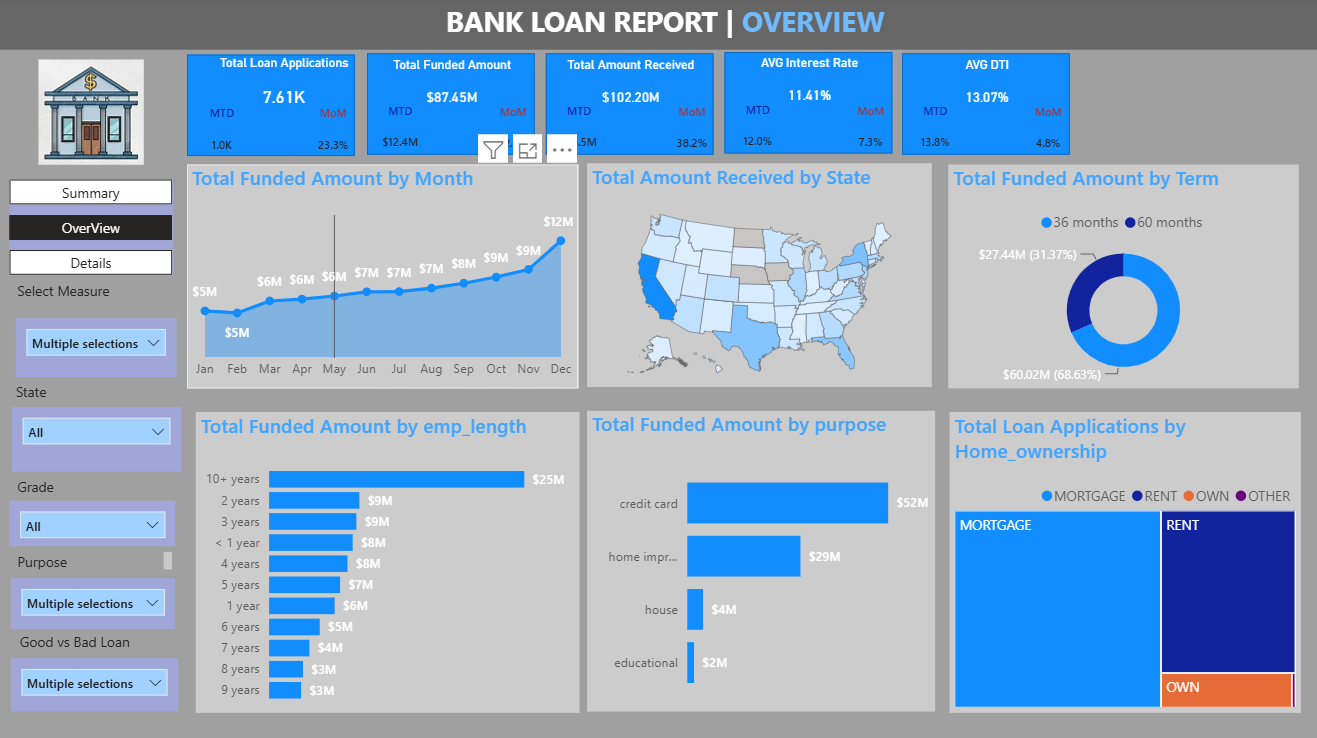

This screenshot's page, from the dashboard's own definition file:
{"tool":"powerbi","page":{"name":"OverView","canvas":[1280,720],"ordinal":1},"visuals":[{"type":"shape","box":[0,0,1280,50.8],"z":0},{"type":"shape","box":[701.6,53.6,162,98],"z":0,"group":"g4"},{"type":"shape","box":[873.8,53.8,162,98],"z":0,"group":"g5"},{"type":"shape","box":[357,54,162,98],"z":0,"group":"g2"},{"type":"shape","box":[530,54.3,162,98],"z":0,"group":"g3"},{"type":"shape","box":[183,55,162,98],"z":0,"group":"g1"},{"type":"textbox","box":[386.1,0,517.6,49.5],"z":1000},{"type":"card","title":"Total Loan Applications","fields":{"Values":["Bank_Loan_dataset.Total Loan Applications"]},"box":[208,55.9,137,48.1],"z":1000,"group":"g1"},{"type":"card","title":"AVG Interest Rate","fields":{"Values":["Bank_Loan_dataset.AVG Interest Rate"]},"box":[716,57.6,135.6,50],"z":1000,"group":"g4"},{"type":"card","title":"AVG DTI","fields":{"Values":["Bank_Loan_dataset.AVG DTI"]},"box":[888.2,57.8,135.6,50],"z":1000,"group":"g5"},{"type":"card","title":"Total Funded Amount","fields":{"Values":["Bank_Loan_dataset.Total Funded Amount"]},"box":[371.4,58,135.6,50],"z":1000,"group":"g2"},{"type":"card","title":"Total  Amount Received","fields":{"Values":["Bank_Loan_dataset.Total Amount REceived"]},"box":[544.4,58.3,135.6,50],"z":1000,"group":"g3"},{"type":"group","id":"g1","title":"Group 1","box":[183,55,162,98],"z":2000},{"type":"card","title":"MTD","fields":{"Values":["Bank_Loan_dataset.MTD AVG Interest Rate"]},"box":[708.3,102,50,50],"z":2000,"group":"g4"},{"type":"card","title":"MTD","fields":{"Values":["Bank_Loan_dataset.MTD AVG DTI"]},"box":[880.5,102.2,50,50],"z":2000,"group":"g5"},{"type":"card","title":"MTD","fields":{"Values":["Bank_Loan_dataset.MTD Funded Amount Applications"]},"box":[363.7,102.4,50,50],"z":2000,"group":"g2"},{"type":"card","title":"MTD","fields":{"Values":["Bank_Loan_dataset.MTD Total Amount Received"]},"box":[536.7,102.7,50,50],"z":2000,"group":"g3"},{"type":"card","title":"MTD","fields":{"Values":["Bank_Loan_dataset.MTD Loan Applications"]},"box":[196,104,41,49],"z":2000,"group":"g1"},{"type":"group","id":"g2","title":"Group 1","box":[357,54,162,98.4],"z":3000},{"type":"card","title":"MoM","fields":{"Values":["Bank_Loan_dataset.MOm AVG Interest Rate"]},"box":[822.6,102.6,41,49],"z":3000,"group":"g4"},{"type":"card","title":"MoM","fields":{"Values":["Bank_Loan_dataset.MoM AVG DTI"]},"box":[994.8,102.8,41,49],"z":3000,"group":"g5"},{"type":"card","title":"MoM","fields":{"Values":["Bank_Loan_dataset.MoM Total Funded Amount"]},"box":[478,103,41,49],"z":3000,"group":"g2"},{"type":"card","title":"MoM","fields":{"Values":["Bank_Loan_dataset.MoM Total Amount Recieved"]},"box":[651,103.3,41,49],"z":3000,"group":"g3"},{"type":"card","title":"MoM","fields":{"Values":["Bank_Loan_dataset.MoM Loan Applications"]},"box":[304,104,41,49],"z":3000,"group":"g1"},{"type":"group","id":"g3","title":"Group 1","box":[530,54.3,161.4,98.6],"z":4000},{"type":"group","id":"g4","title":"Group 1","box":[701.6,53.6,162,98.4],"z":5000},{"type":"group","id":"g5","title":"Group 1","box":[873.8,53.8,162.5,98.8],"z":6000},{"type":"slicer","fields":{"Values":["Bank_Loan_dataset.address_state"]},"box":[15,396.2,162.9,62.7],"z":7000},{"type":"textbox","box":[13.8,366.2,155.6,30.2],"z":8000},{"type":"slicer","fields":{"Values":["Bank_Loan_dataset.grade"]},"box":[12.5,486.2,160,44.3],"z":9000},{"type":"slicer","fields":{"Values":["Bank_Loan_dataset.purpose","Bank_Loan_dataset.grade"]},"box":[13.8,561.2,158.6,48.6],"z":10000},{"type":"textbox","box":[15,458.8,84.5,27.7],"z":11000},{"type":"textbox","box":[15,531.2,159.3,26.5],"z":12000},{"type":"slicer","fields":{"Values":["Select Measure.Select Measure"]},"box":[17.5,310,155,56.7],"z":13000},{"type":"textbox","box":[15,268.8,155.6,30.2],"z":14000},{"type":"areaChart","fields":{"Y":["Bank_Loan_dataset.Total Funded Amount"],"Category":["Date Table.Month"]},"box":[182.9,161.4,378.6,215.7],"z":15000},{"type":"shapeMap","title":"Total Amount Received by State","fields":{"Value":["Bank_Loan_dataset.Total Funded Amount"],"Category":["Bank_Loan_dataset.address_state"]},"box":[570,160,332.9,215.7],"z":16000},{"type":"donutChart","title":"Total Funded Amount by Term","fields":{"Y":["Bank_Loan_dataset.Total Funded Amount"],"Category":["Bank_Loan_dataset.term"]},"box":[918.6,161.4,338.6,215.7],"z":17000},{"type":"barChart","fields":{"Y":["Bank_Loan_dataset.Total Funded Amount"],"Category":["Bank_Loan_dataset.emp_length"]},"box":[191.4,400,370,290],"z":18000},{"type":"barChart","fields":{"Y":["Bank_Loan_dataset.Total Funded Amount"],"Category":["Bank_Loan_dataset.purpose"]},"box":[569.4,399.3,335.7,290],"z":19000},{"type":"treemap","title":"Total Loan Applications by Home_ownership","fields":{"Values":["Bank_Loan_dataset.Total Funded Amount"],"Group":["Bank_Loan_dataset.home_ownership"]},"box":[919,400,339,290],"z":20000},{"type":"slicer","fields":{"Values":["Bank_Loan_dataset.Good vs Bad Loan"]},"box":[12.9,638.6,161.4,51.4],"z":21000},{"type":"textbox","box":[17.1,608.6,155.7,30],"z":22000},{"type":"pageNavigator","box":[12.5,176.2,157.5,92.5],"z":23000},{"type":"image","box":[12.5,60,157.5,101.2],"z":24000}]}

Visuals, with their boxes in screenshot pixels (x1, y1, x2, y2), scaled from the page's 1280x720 canvas onto the 1317x738 screenshot:
shape: (x1=0, y1=0, x2=1316, y2=52)
shape: (x1=722, y1=55, x2=889, y2=155)
shape: (x1=899, y1=55, x2=1066, y2=156)
shape: (x1=367, y1=55, x2=534, y2=156)
shape: (x1=545, y1=56, x2=712, y2=156)
shape: (x1=188, y1=56, x2=355, y2=157)
textbox: (x1=397, y1=0, x2=930, y2=51)
"Total Loan Applications" card: (x1=214, y1=57, x2=355, y2=107)
"AVG Interest Rate" card: (x1=737, y1=59, x2=876, y2=110)
"AVG DTI" card: (x1=914, y1=59, x2=1053, y2=110)
"Total Funded Amount" card: (x1=382, y1=59, x2=522, y2=111)
"Total  Amount Received" card: (x1=560, y1=60, x2=700, y2=111)
"Group 1" group: (x1=188, y1=56, x2=355, y2=157)
"MTD" card: (x1=729, y1=105, x2=780, y2=156)
"MTD" card: (x1=906, y1=105, x2=957, y2=156)
"MTD" card: (x1=374, y1=105, x2=426, y2=156)
"MTD" card: (x1=552, y1=105, x2=604, y2=157)
"MTD" card: (x1=202, y1=107, x2=244, y2=157)
"Group 1" group: (x1=367, y1=55, x2=534, y2=156)
"MoM" card: (x1=846, y1=105, x2=889, y2=155)
"MoM" card: (x1=1024, y1=105, x2=1066, y2=156)
"MoM" card: (x1=492, y1=106, x2=534, y2=156)
"MoM" card: (x1=670, y1=106, x2=712, y2=156)
"MoM" card: (x1=313, y1=107, x2=355, y2=157)
"Group 1" group: (x1=545, y1=56, x2=711, y2=157)
"Group 1" group: (x1=722, y1=55, x2=889, y2=156)
"Group 1" group: (x1=899, y1=55, x2=1066, y2=156)
slicer - Bank_Loan_dataset.address_state: (x1=15, y1=406, x2=183, y2=470)
textbox: (x1=14, y1=375, x2=174, y2=406)
slicer - Bank_Loan_dataset.grade: (x1=13, y1=498, x2=177, y2=544)
slicer - Bank_Loan_dataset.purpose x Bank_Loan_dataset.grade: (x1=14, y1=575, x2=177, y2=625)
textbox: (x1=15, y1=470, x2=102, y2=499)
textbox: (x1=15, y1=544, x2=179, y2=572)
slicer - Select Measure.Select Measure: (x1=18, y1=318, x2=177, y2=376)
textbox: (x1=15, y1=276, x2=176, y2=306)
areaChart - Bank_Loan_dataset.Total Funded Amount x Date Table.Month: (x1=188, y1=165, x2=578, y2=387)
"Total Amount Received by State" shapeMap: (x1=586, y1=164, x2=929, y2=385)
"Total Funded Amount by Term" donutChart: (x1=945, y1=165, x2=1294, y2=387)
barChart - Bank_Loan_dataset.Total Funded Amount x Bank_Loan_dataset.emp_length: (x1=197, y1=410, x2=578, y2=707)
barChart - Bank_Loan_dataset.Total Funded Amount x Bank_Loan_dataset.purpose: (x1=586, y1=409, x2=931, y2=707)
"Total Loan Applications by Home_ownership" treemap: (x1=946, y1=410, x2=1294, y2=707)
slicer - Bank_Loan_dataset.Good vs Bad Loan: (x1=13, y1=655, x2=179, y2=707)
textbox: (x1=18, y1=624, x2=178, y2=655)
pageNavigator: (x1=13, y1=181, x2=175, y2=275)
image: (x1=13, y1=61, x2=175, y2=165)
